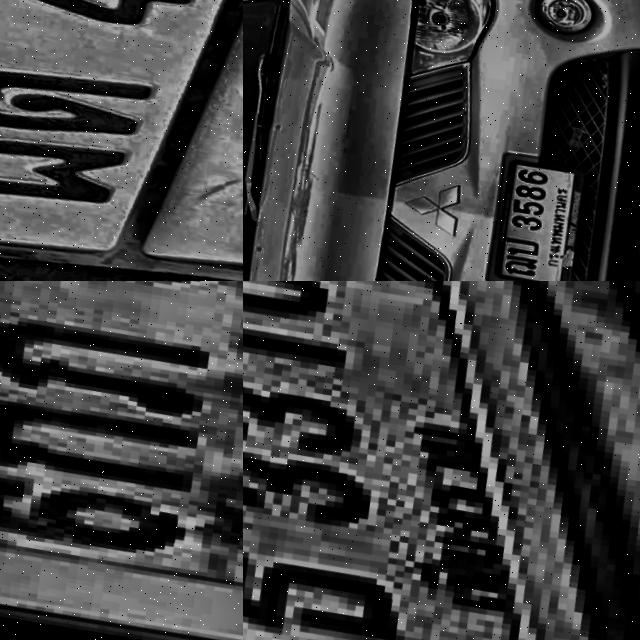license-plate: (243, 281, 640, 640), (0, 281, 243, 640), (0, 0, 243, 281), (477, 158, 591, 281)
